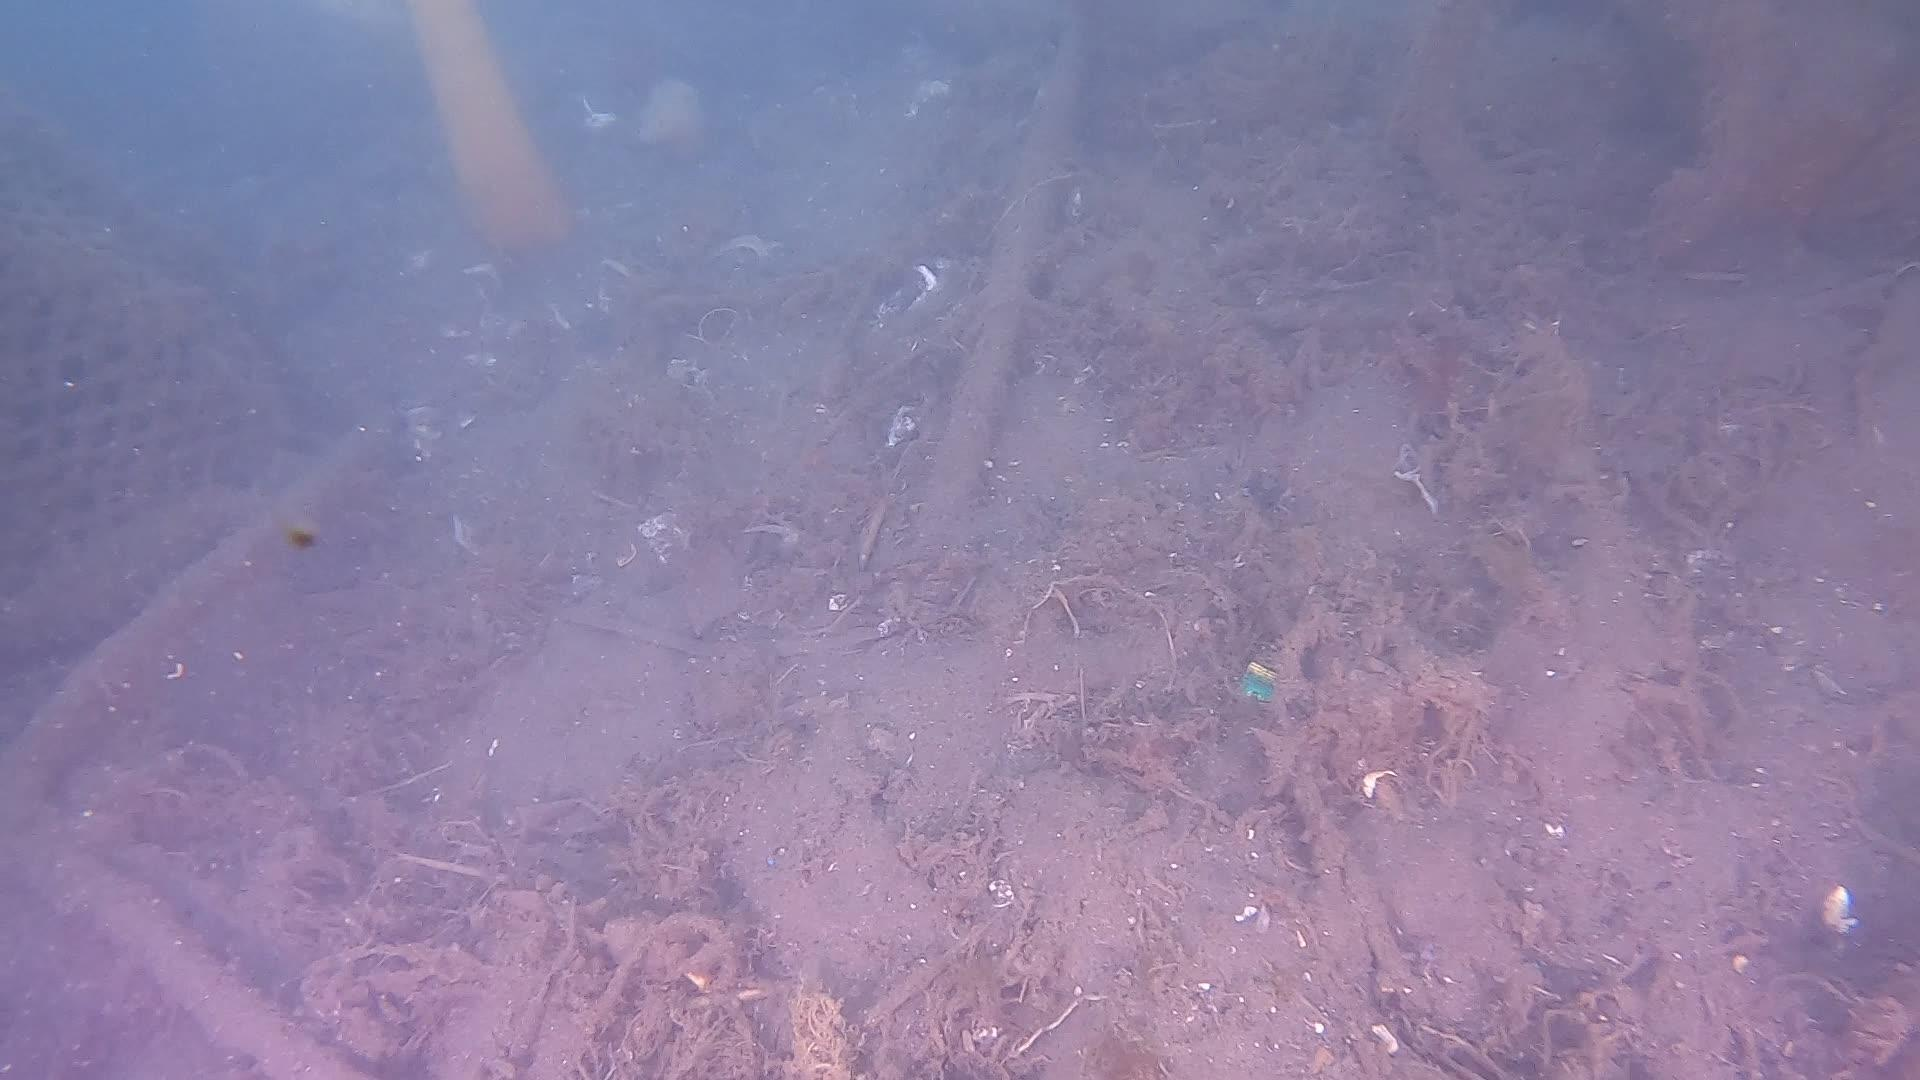spring fish trap: (0, 88, 331, 789)
wood: (895, 0, 1093, 571)
